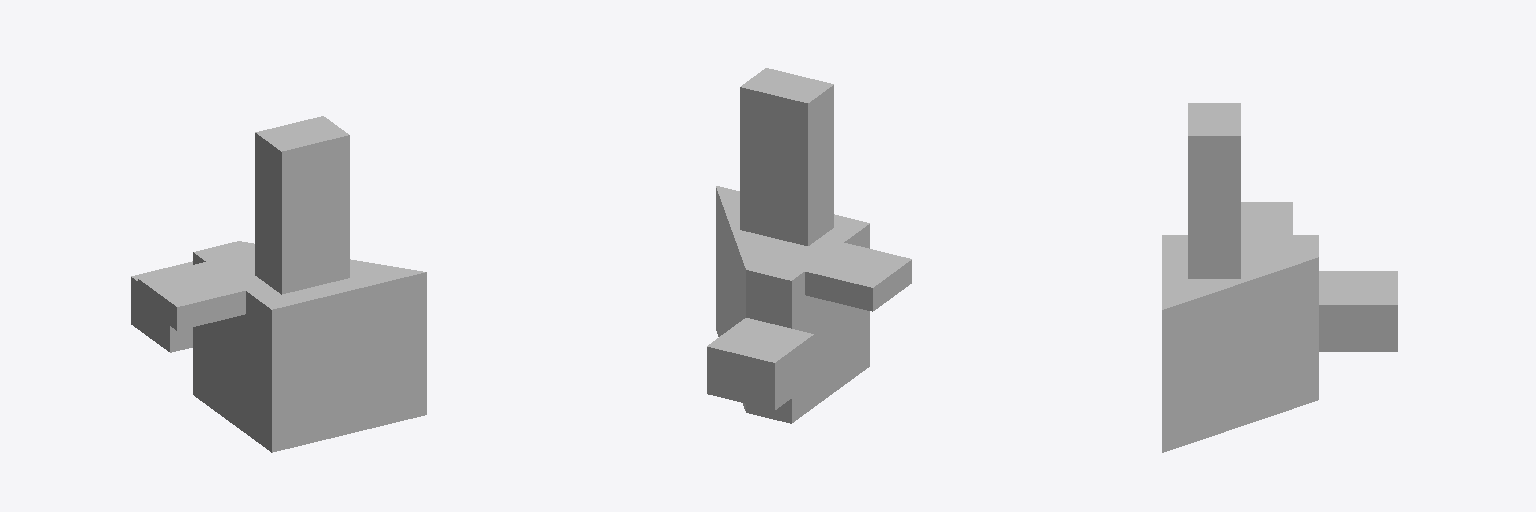
3 renders of one model, left to right at view 1: azimuth 30°, elevation 25°; view 2: azimuth 150°, elevation 25°; view 3: azimuth 270°, elevation 25°, orthographic.
Parts seen in each view (by area): view 1: entity0_brush0, entity0_brush3, entity0_brush2, entity0_brush1; view 2: entity0_brush0, entity0_brush3, entity0_brush1, entity0_brush2; view 3: entity0_brush0, entity0_brush3, entity0_brush1, entity0_brush2.
Part boxes in pixels (x1,y1,x2,y2): entity0_brush0: (193, 241, 426, 452); entity0_brush3: (255, 116, 349, 294); entity0_brush2: (138, 262, 245, 330); entity0_brush1: (131, 261, 192, 352); entity0_brush0: (716, 186, 869, 423); entity0_brush3: (740, 68, 833, 245); entity0_brush1: (707, 318, 813, 410); entity0_brush2: (805, 243, 911, 311); entity0_brush0: (1162, 235, 1318, 452); entity0_brush3: (1188, 103, 1240, 278); entity0_brush1: (1319, 271, 1397, 351); entity0_brush2: (1241, 202, 1292, 234).
Bounding box in the file's own units: 157 × 192 × 144.